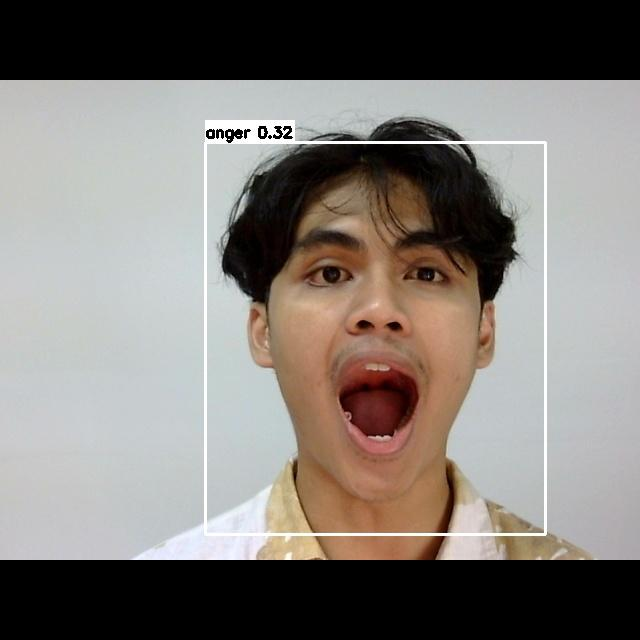Surprised: (268, 229, 475, 464)
